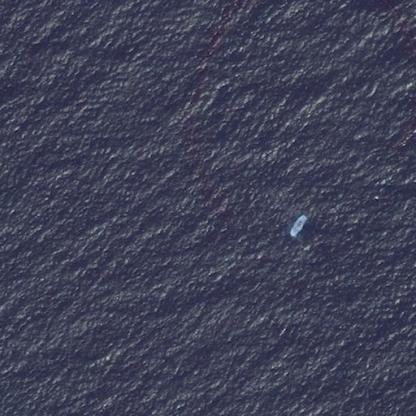ship: (286, 208, 313, 241)
